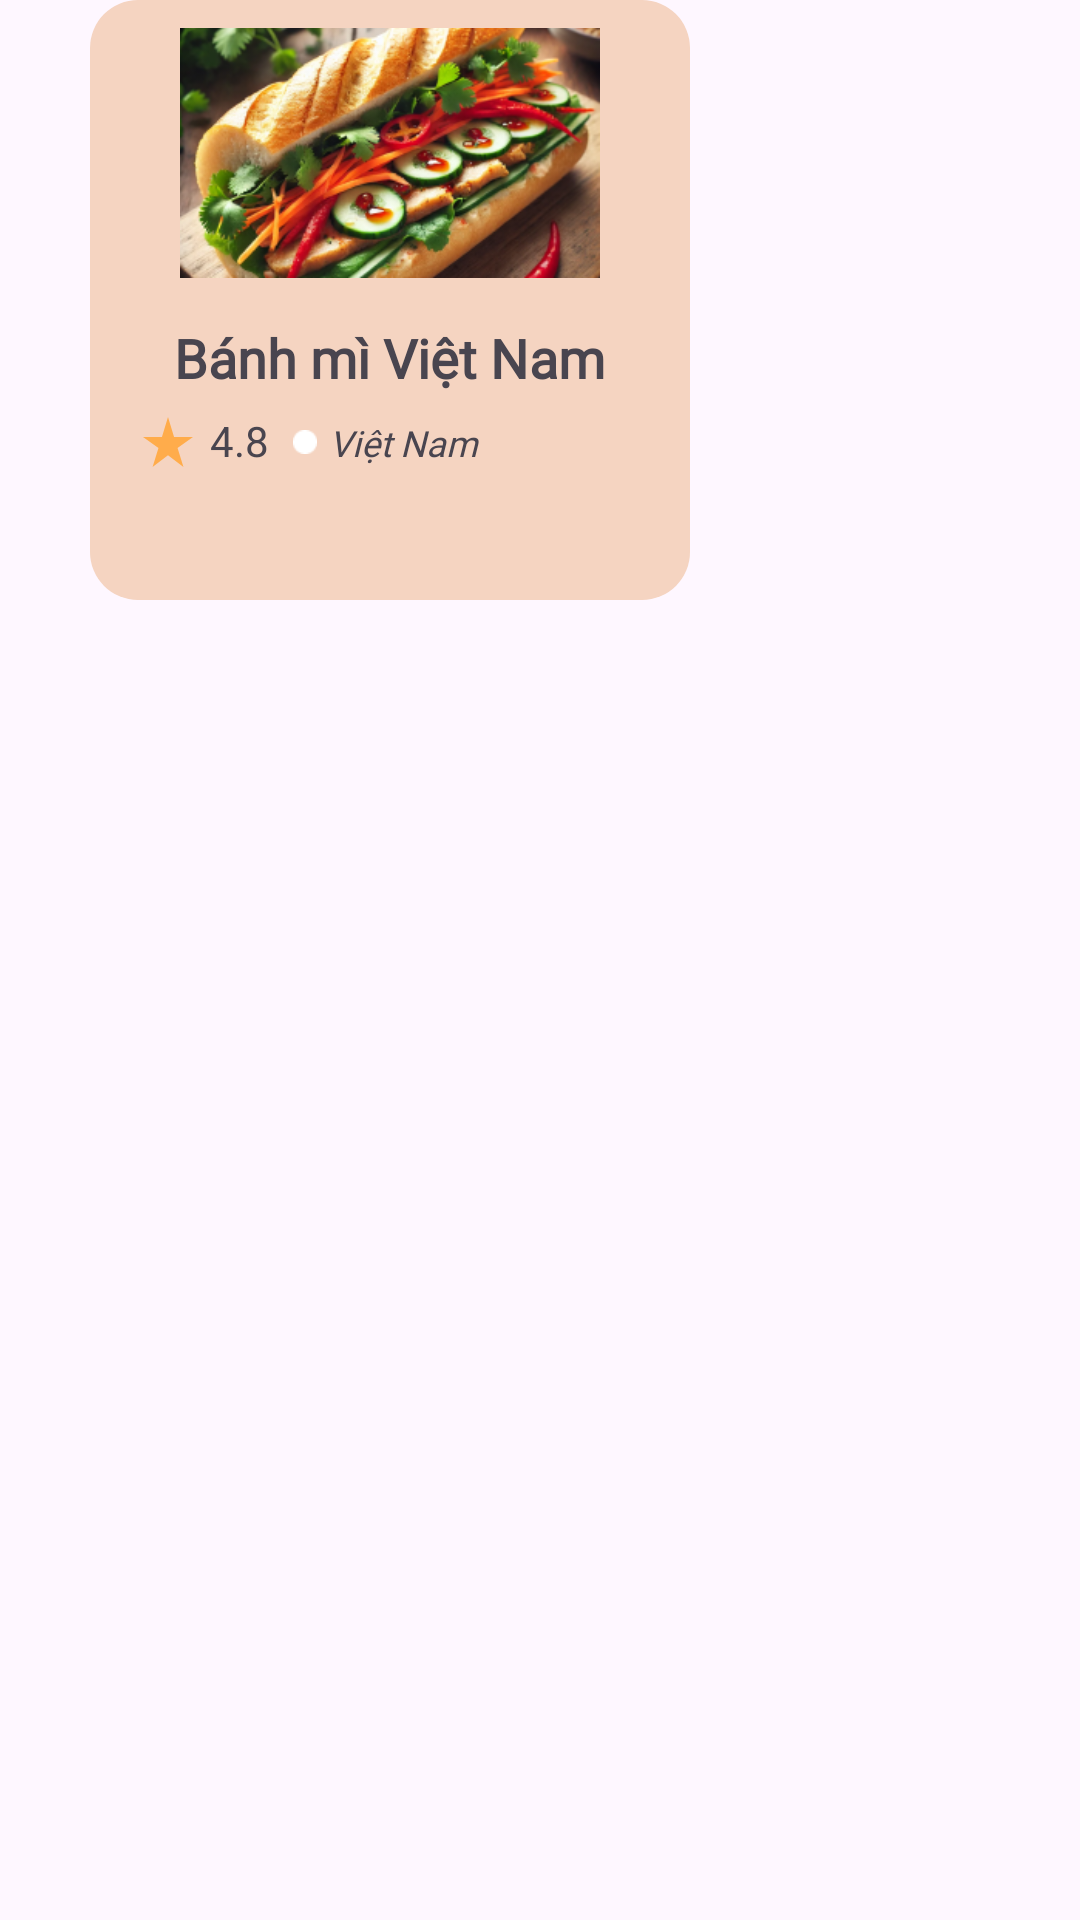

Screen size 1080x1920. Icon name, then its box in pixels as (x1, y1, x2, y2):
star: (143, 418, 193, 467)
